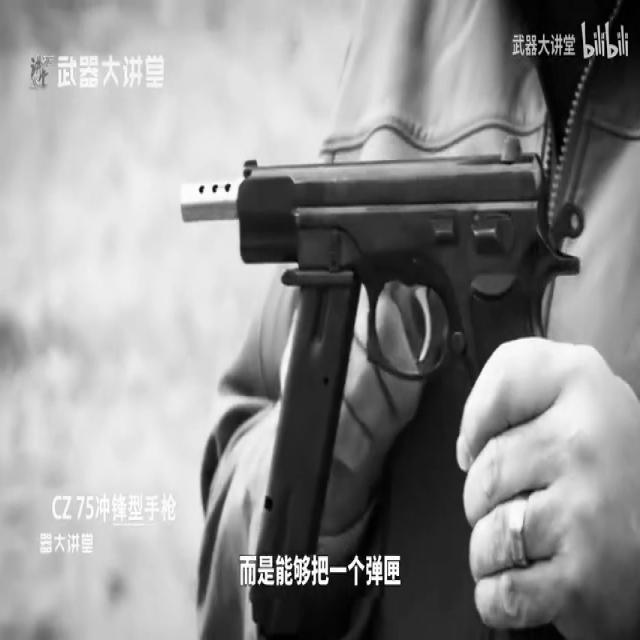Hand-Gun: (170, 128, 584, 606)
